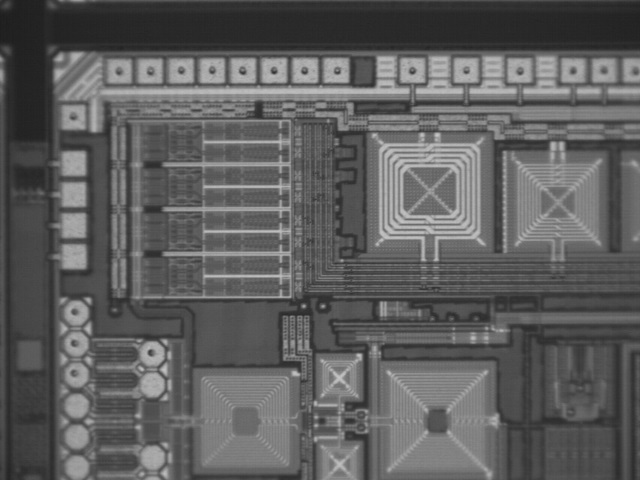normal: (102, 54, 134, 87), (133, 53, 165, 86), (164, 53, 196, 86), (195, 53, 227, 86), (226, 53, 258, 86), (257, 53, 289, 86), (288, 53, 320, 86), (320, 53, 352, 86), (396, 53, 428, 86), (450, 52, 482, 85), (503, 52, 535, 85), (557, 52, 589, 85), (587, 52, 619, 85), (56, 100, 88, 133), (59, 295, 91, 328), (59, 327, 91, 360), (59, 358, 91, 391), (135, 336, 167, 369), (620, 52, 639, 85)
